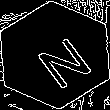N_NW: (21, 23, 89, 87)
